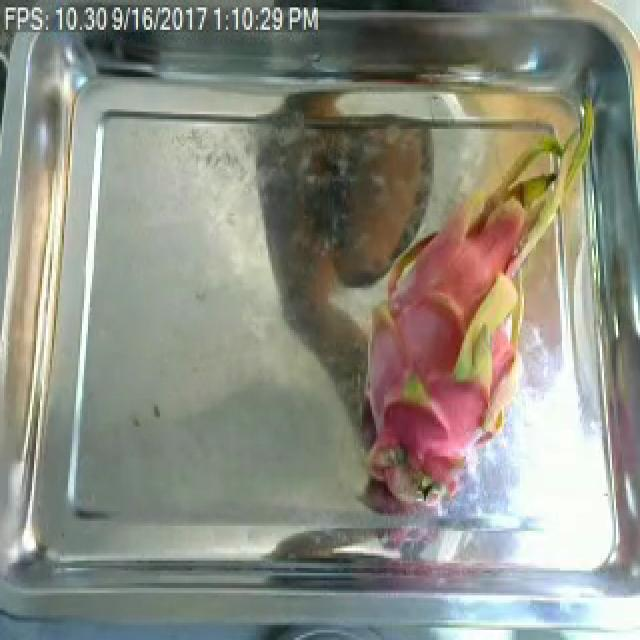fruit: (346, 119, 584, 523)
